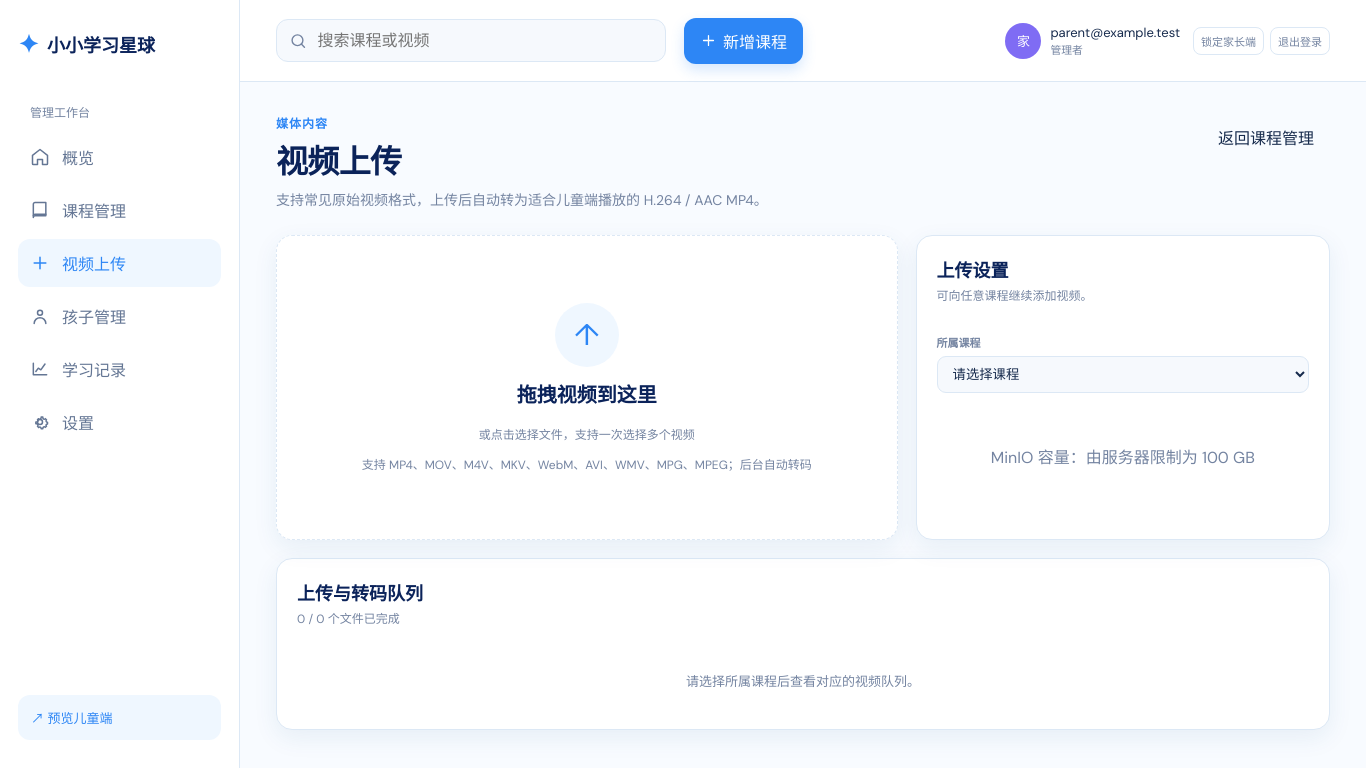
Test case: real MinIO upload page › filters the queue to the selected course instead of showing every course
Expected: the element with test id "upload-queue" shows "请选择所属课程后查看对应的视频队列。", [686, 673, 920, 690]
Select "快乐英语小课堂" in the dropdown labelled "所属课程" at (1123, 374), box [937, 356, 1309, 393]
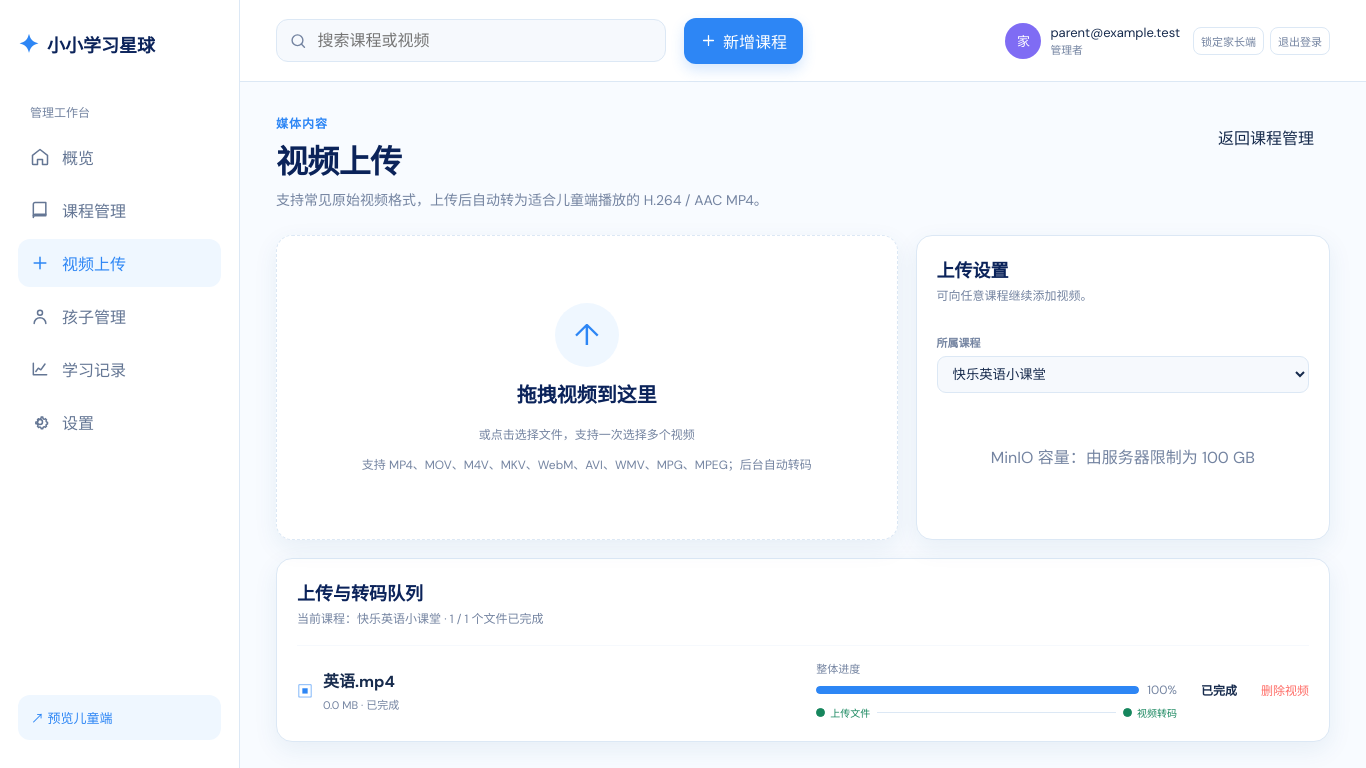
Expected: the text "语文.mp4" is not shown
Expected: the text "英语.mp4" is shown, [323, 668, 399, 692]
Select "小小诗人：古诗启蒙" in the dropdown labelled "所属课程" at (1123, 374), box [937, 356, 1309, 393]
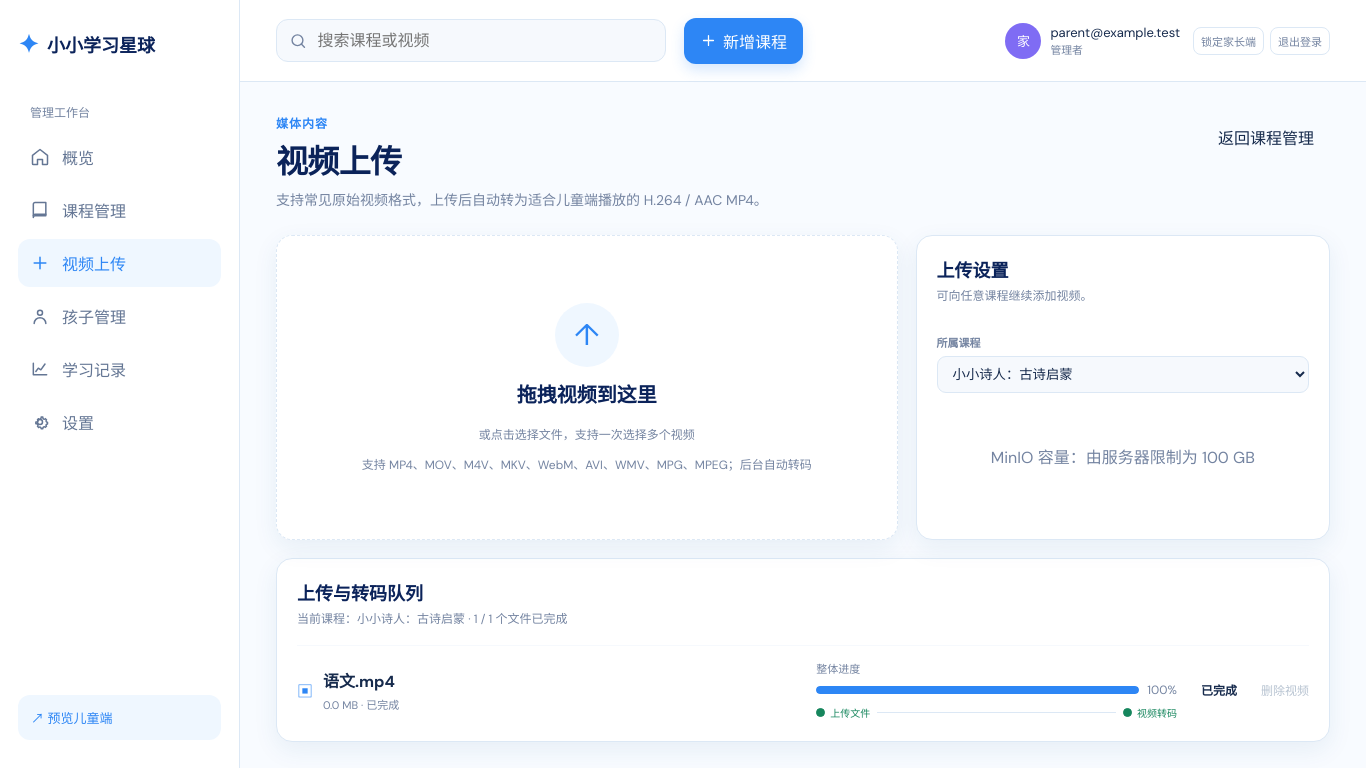
Expected: the text "语文.mp4" is shown, [323, 668, 399, 692]
Expected: the text "英语.mp4" is gone
